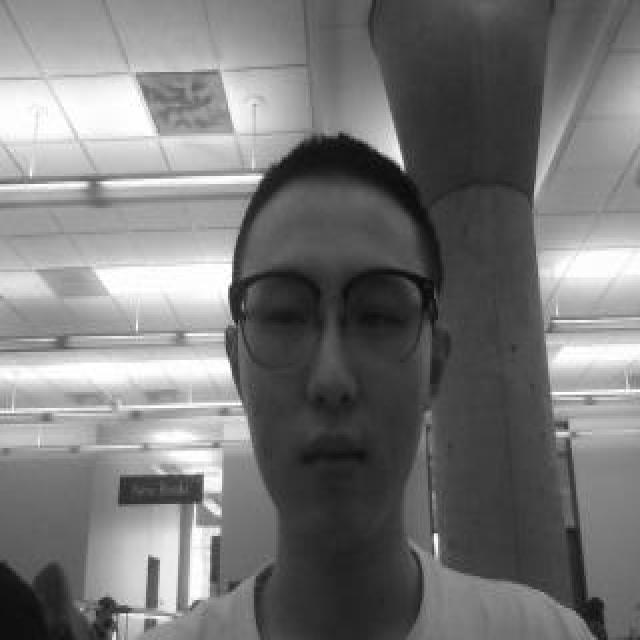Focused: (244, 179, 421, 504)
